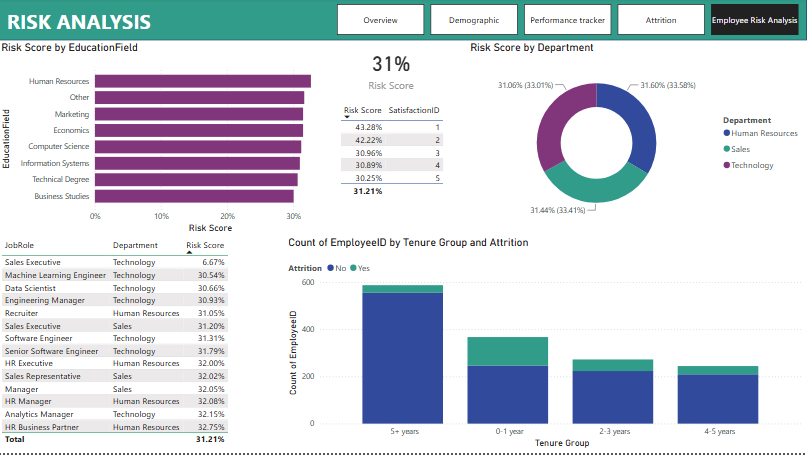

Layout of this report page (visuals, bound fields, positions):
{"tool":"powerbi","page":{"name":"Employee Risk Analysis","canvas":[1280,720],"ordinal":4},"visuals":[{"type":"tableEx","fields":{"Values":["DimEmployee.JobRole","DimEmployee.Department","_Measure.Risk Score"]},"box":[0,375,454.1,341.8],"z":0},{"type":"shape","box":[0,0,1280,67.1],"z":1000},{"type":"textbox","box":[14.8,9.8,582.6,57.4],"z":2000},{"type":"pageNavigator","box":[536.6,9.8,731.9,49.2],"z":3000},{"type":"advanceCardE03760C5AB684758B56AA29F9E6C257B","fields":{"mainMeasure":["_Measure.Risk Score"]},"box":[536.4,68,170.9,93.3],"z":4000},{"type":"donutChart","fields":{"Y":["_Measure.Risk Score"],"Category":["DimEmployee.Department"]},"box":[742.1,68,537.9,292.7],"z":5000},{"type":"columnChart","fields":{"Category":["DimEmployee.Tenure Group"],"Series":["DimEmployee.Attrition"],"Y":["CountNonNull(DimEmployee.EmployeeID)"]},"box":[454.1,376.6,825.9,340.2],"z":6000},{"type":"clusteredBarChart","fields":{"Y":["_Measure.Risk Score"],"Category":["DimEmployee.EducationField"]},"box":[0,68,536.4,308.5],"z":6001},{"type":"tableEx","fields":{"Values":["_Measure.Risk Score","DimSatisfiedLevel.SatisfactionID"]},"box":[536.4,161.4,189.9,175.6],"z":6002}]}

Visuals, with their boxes in screenshot pixels (x1, y1, x2, y2), scaled from the page's 1280x720 canvas onto the 807x455 screenshot:
tableEx - DimEmployee.JobRole x DimEmployee.Department: (x1=0, y1=237, x2=286, y2=453)
shape: (x1=0, y1=0, x2=806, y2=42)
textbox: (x1=9, y1=6, x2=377, y2=42)
pageNavigator: (x1=338, y1=6, x2=800, y2=37)
advanceCardE03760C5AB684758B56AA29F9E6C257B - _Measure.Risk Score: (x1=338, y1=43, x2=446, y2=102)
donutChart - _Measure.Risk Score x DimEmployee.Department: (x1=468, y1=43, x2=806, y2=228)
columnChart - DimEmployee.Tenure Group x DimEmployee.Attrition: (x1=286, y1=238, x2=806, y2=453)
clusteredBarChart - _Measure.Risk Score x DimEmployee.EducationField: (x1=0, y1=43, x2=338, y2=238)
tableEx - _Measure.Risk Score x DimSatisfiedLevel.SatisfactionID: (x1=338, y1=102, x2=458, y2=213)
